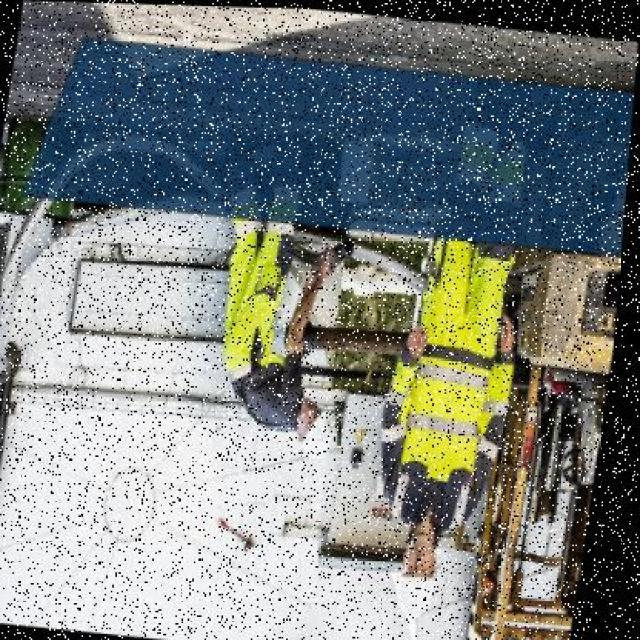helmet: (394, 554, 454, 620), (299, 394, 348, 464)
vest: (386, 317, 516, 531)
